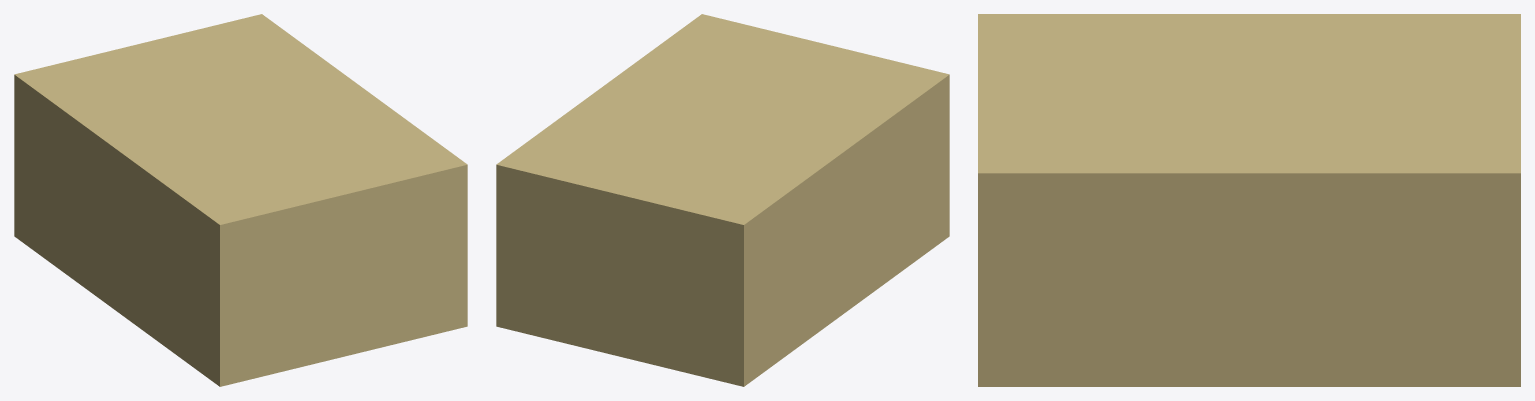
The model's file is platform_small1.fbx.
3 views of the same model, side by side, from view 1: azimuth 30°, elevation 25°; view 2: azimuth 150°, elevation 25°; view 3: azimuth 270°, elevation 25° (orthographic). The views are drawn at different scales.
Visible parts, largest first — view 1: Cube.004; view 2: Cube.004; view 3: Cube.004.
Boxes of the visible parts, x1,y1,x2,y2 form: Cube.004: (14, 14, 467, 386); Cube.004: (496, 14, 949, 386); Cube.004: (978, 14, 1520, 386).
Size of the model in its own units: 5000 by 3122 by 7195.
